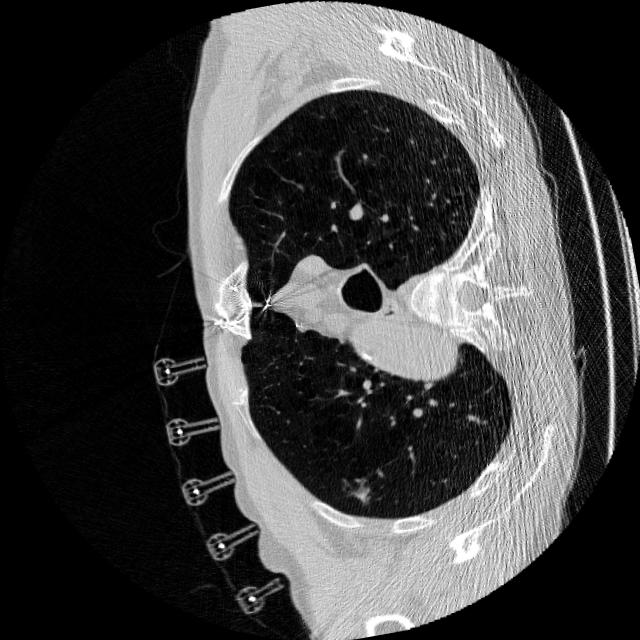nodule: (340, 470, 380, 511)
